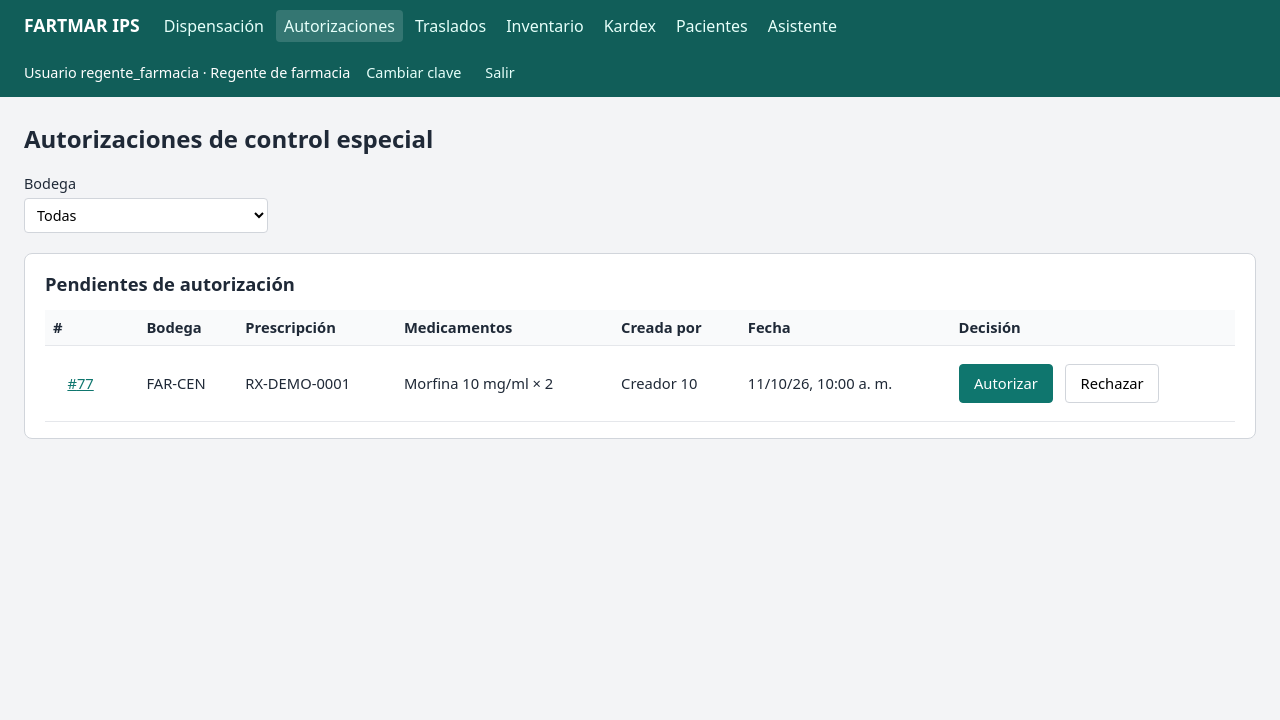
it: Bandeja de autorizaciones › SEGREGACION_FUNCIONES del backend se explica aunque la UI no lo anticipe
The width and height of the screenshot is (1280, 720).
What coordinates should you click on to do the following:
click the button with aria-label "Autorizar dispensación 77"
I would click on:
 (1006, 383)
Its box is [958,364,1053,403].
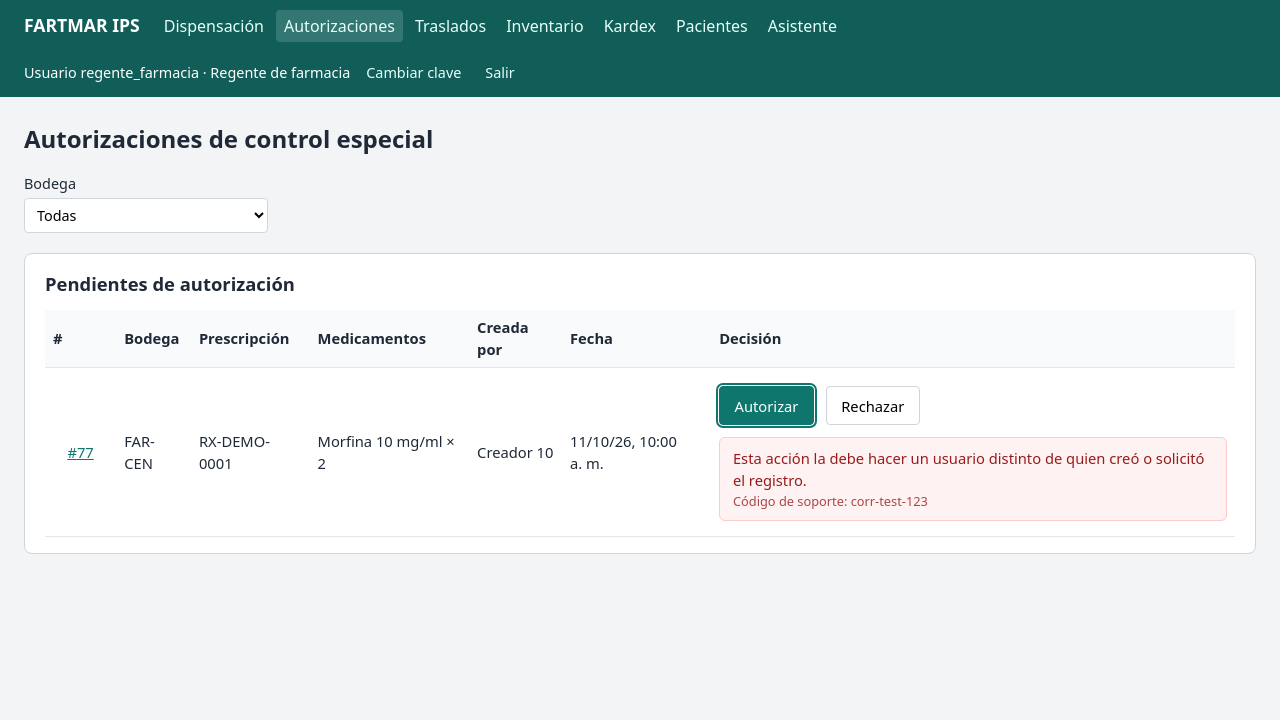
Expected: the message shows "usuario distinto de quien creó", [733,448,1204,490]
